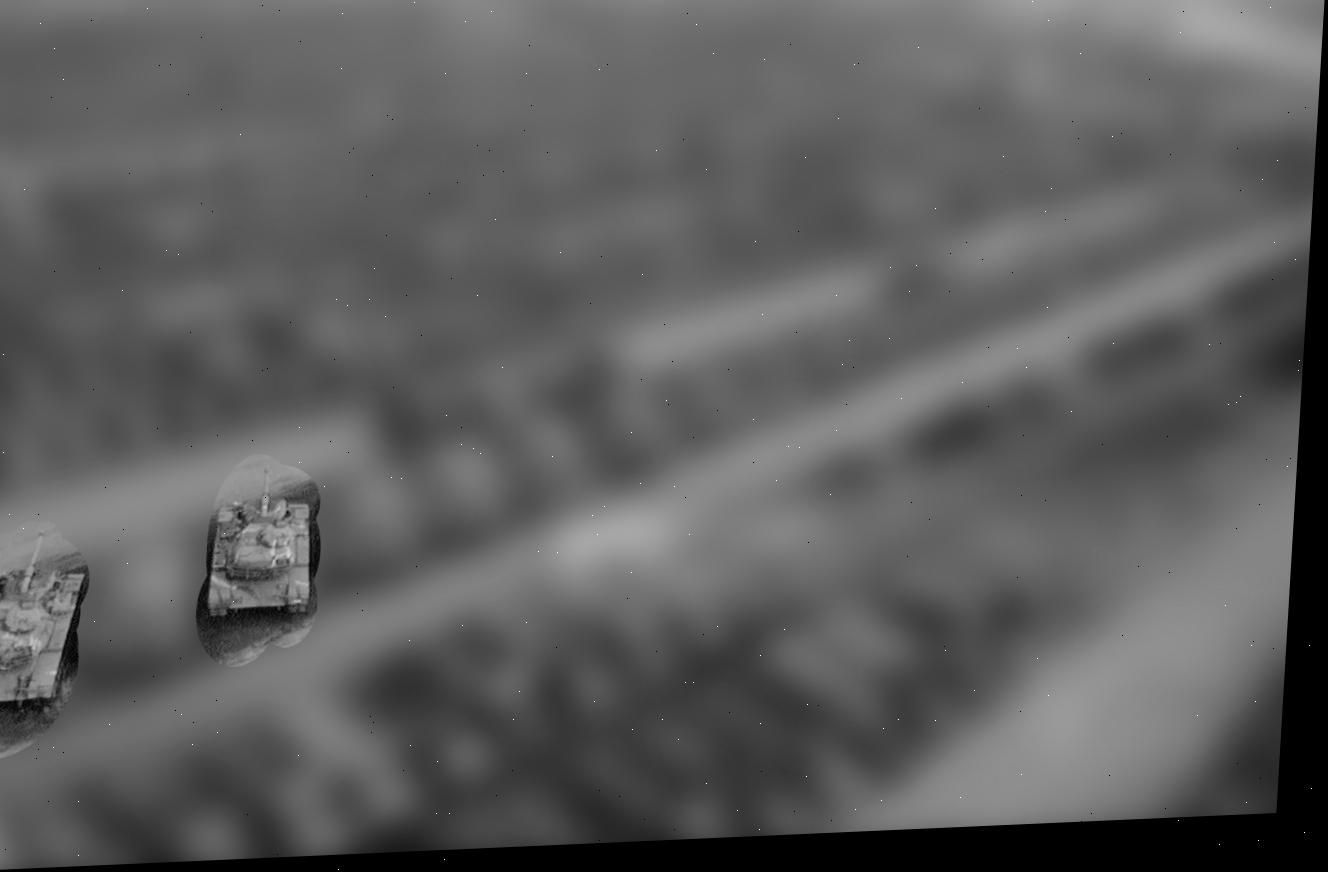tank: (203, 459, 338, 637), (0, 517, 94, 763)
